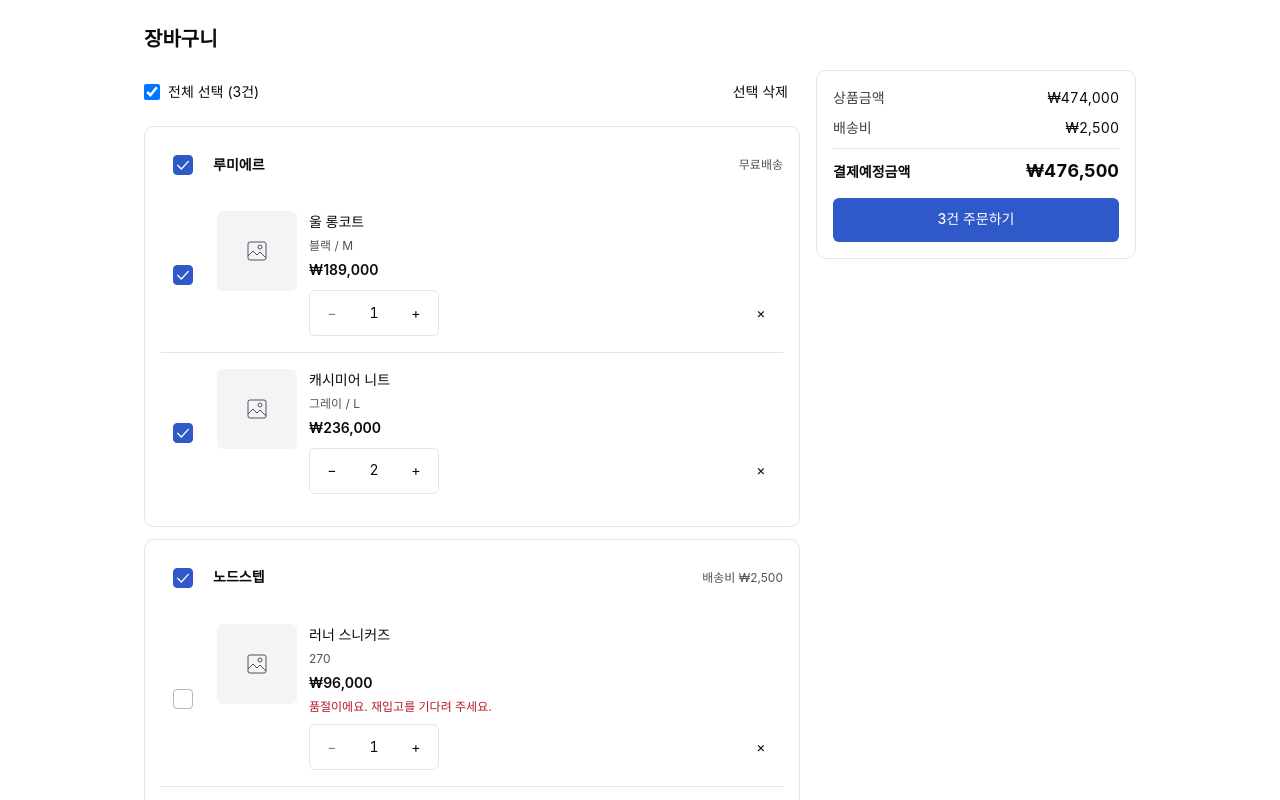
Test: 주문하기 › refuses and says why when nothing is chosen
Step 1. Click the checkbox labelled "전체 선택 (3건)" → click(152, 92), box [144,84,160,100]
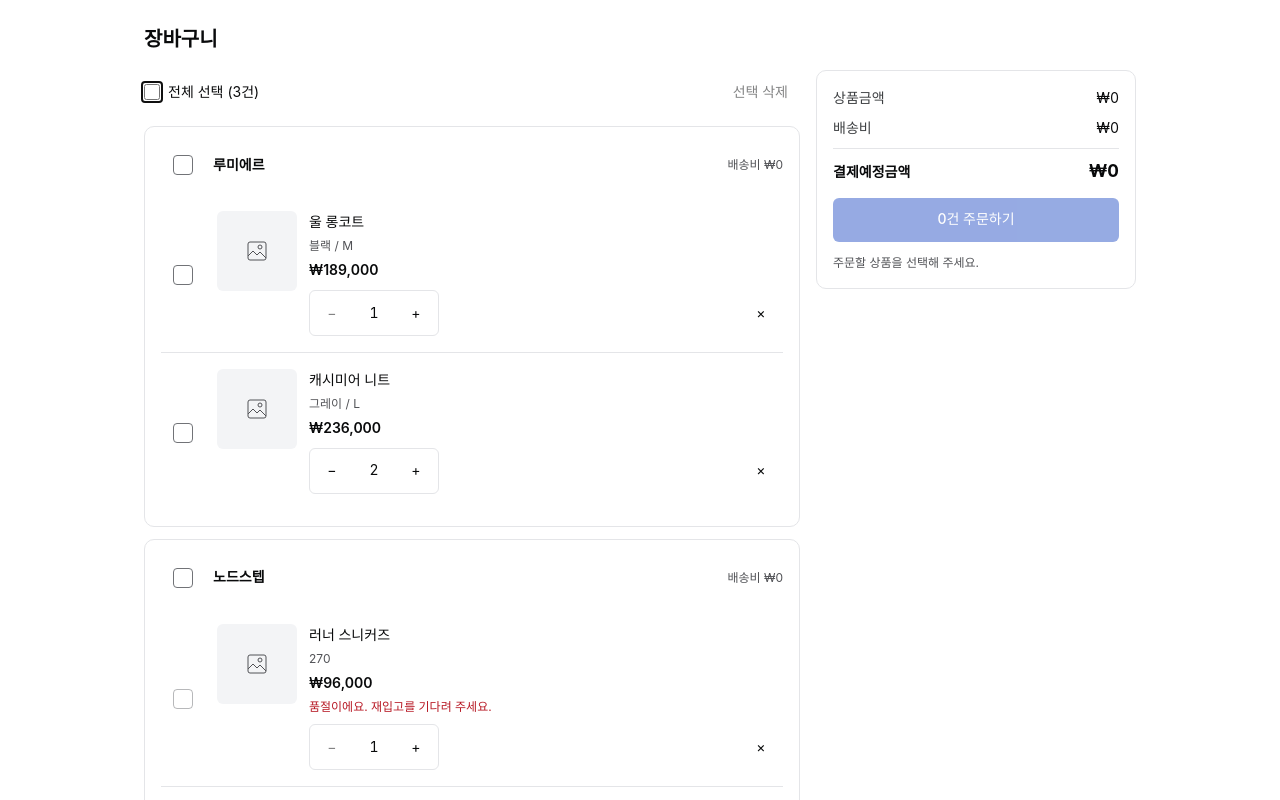
Result: the text "주문할 상품을 선택해 주세요." is shown at [833,255,979,270]
Result: the button "3건 주문하기" is gone
